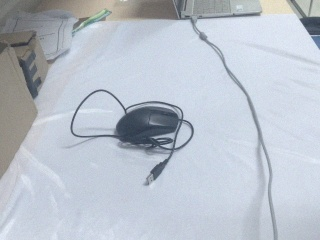box: (1, 29, 39, 188), (1, 29, 50, 98)
mouse: (114, 105, 180, 146)
